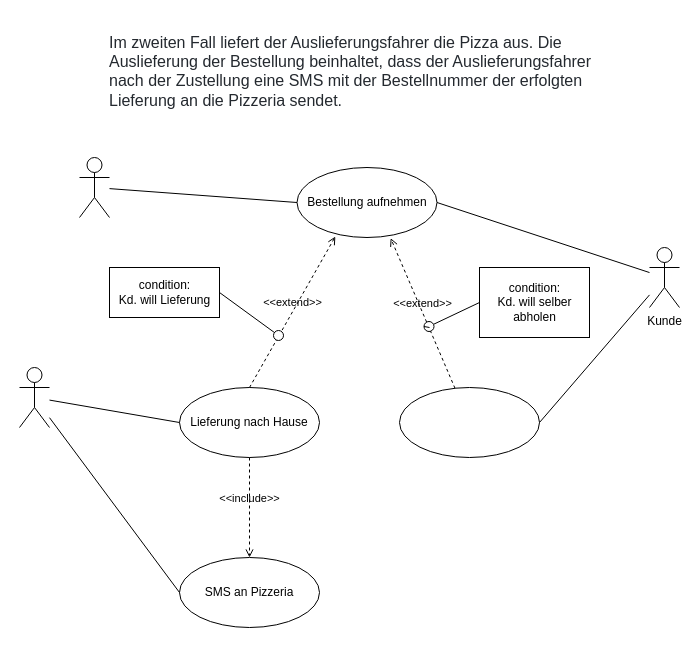
The diagram is 699 pixels wide and 645 high, and some of its shapes have lost their labels. Here are the shapes that lost their labels. From the top down, the centre of each, then its label:
At pixel 94 187: "Mitarbeiter".
At pixel 34 397: "Fahrer".
At pixel 469 422: "Selbstabholung".
